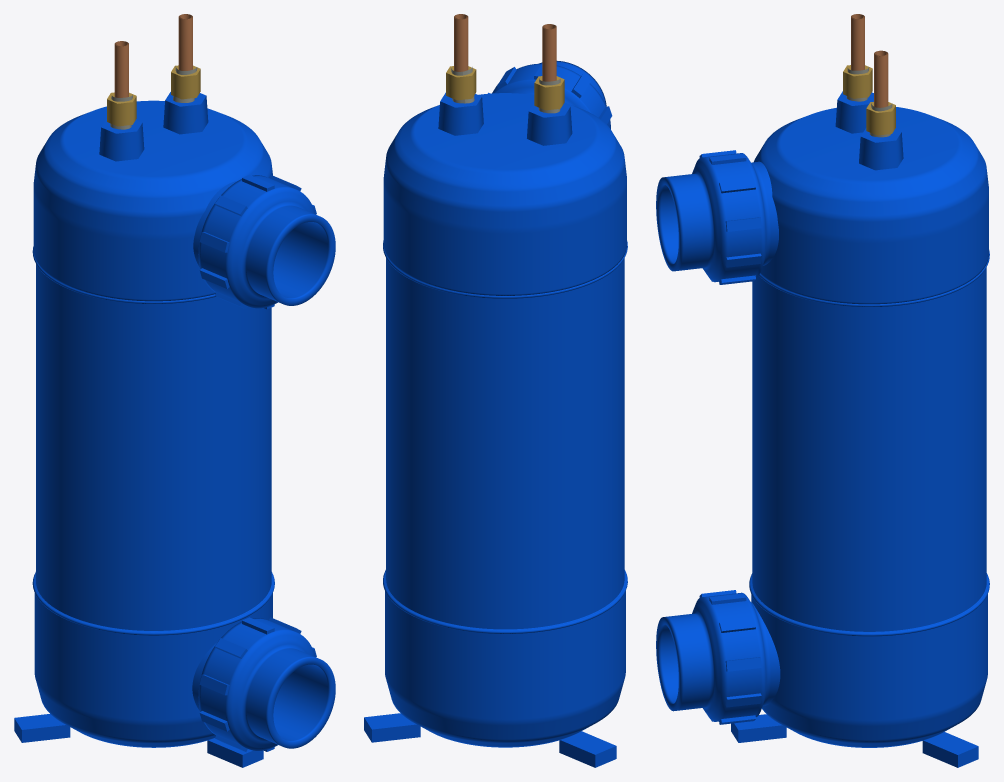
3 renders of one model, left to right at view 1: azimuth 30°, elevation 25°; view 2: azimuth 150°, elevation 25°; view 3: azimuth 270°, elevation 25°, orthographic.
Visible parts, largest first — view 1: reveal-sleeve, upper-housing, lower-housing, hollow-union.001, hollow-union, refrigerant-boss, refrigerant-boss.001, mounting-tab.002, housing-seam, mounting-tab, copper-refrigerant-stub, copper-refrigerant-stub.001 (+3 smaller); view 2: reveal-sleeve, upper-housing, lower-housing, hollow-union.001, refrigerant-boss, refrigerant-boss.001, mounting-tab.002, mounting-tab.001, housing-seam, housing-seam.001, copper-refrigerant-stub, copper-refrigerant-stub.001 (+2 smaller); view 3: reveal-sleeve, upper-housing, lower-housing, hollow-union.001, hollow-union, refrigerant-boss.001, mounting-tab.001, housing-seam, mounting-tab, refrigerant-boss, copper-refrigerant-stub.001, housing-seam.001 (+3 smaller).
Boxes of the visible parts, x1=… form: reveal-sleeve: x1=36, y1=264, x2=271, y2=630; upper-housing: x1=33, y1=100, x2=272, y2=301; lower-housing: x1=34, y1=574, x2=272, y2=747; hollow-union.001: x1=193, y1=175, x2=335, y2=308; hollow-union: x1=192, y1=618, x2=335, y2=750; refrigerant-boss: x1=99, y1=119, x2=144, y2=161; refrigerant-boss.001: x1=163, y1=92, x2=208, y2=134; mounting-tab.002: x1=14, y1=714, x2=70, y2=742; housing-seam: x1=32, y1=572, x2=274, y2=635; mounting-tab: x1=207, y1=738, x2=263, y2=767; copper-refrigerant-stub: x1=114, y1=41, x2=128, y2=97; copper-refrigerant-stub.001: x1=178, y1=14, x2=192, y2=70; reveal-sleeve: x1=386, y1=258, x2=624, y2=629; upper-housing: x1=383, y1=93, x2=626, y2=295; lower-housing: x1=385, y1=572, x2=625, y2=747; hollow-union.001: x1=492, y1=61, x2=610, y2=129; refrigerant-boss: x1=527, y1=103, x2=572, y2=145; refrigerant-boss.001: x1=438, y1=92, x2=483, y2=135; mounting-tab.002: x1=559, y1=731, x2=616, y2=767; mounting-tab.001: x1=364, y1=713, x2=420, y2=742; housing-seam: x1=383, y1=570, x2=627, y2=633; housing-seam.001: x1=383, y1=240, x2=627, y2=298; copper-refrigerant-stub: x1=542, y1=24, x2=556, y2=81; copper-refrigerant-stub.001: x1=454, y1=14, x2=468, y2=71; reveal-sleeve: x1=752, y1=267, x2=986, y2=631; upper-housing: x1=754, y1=107, x2=988, y2=304; lower-housing: x1=751, y1=576, x2=987, y2=747; hollow-union.001: x1=656, y1=153, x2=778, y2=282; hollow-union: x1=656, y1=592, x2=780, y2=721; refrigerant-boss.001: x1=859, y1=128, x2=903, y2=170; mounting-tab.001: x1=922, y1=732, x2=978, y2=767; housing-seam: x1=749, y1=573, x2=989, y2=636; mounting-tab: x1=731, y1=714, x2=786, y2=742; refrigerant-boss: x1=835, y1=91, x2=873, y2=133; copper-refrigerant-stub.001: x1=874, y1=50, x2=888, y2=107; housing-seam.001: x1=759, y1=250, x2=989, y2=306.
Bounding box in the file's own units: 0.2189 × 0.64 × 0.282.
